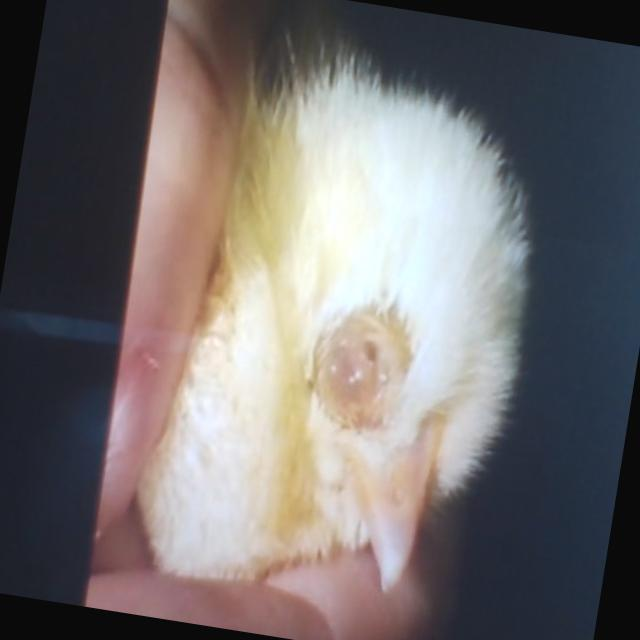Sick: (115, 42, 555, 612)
